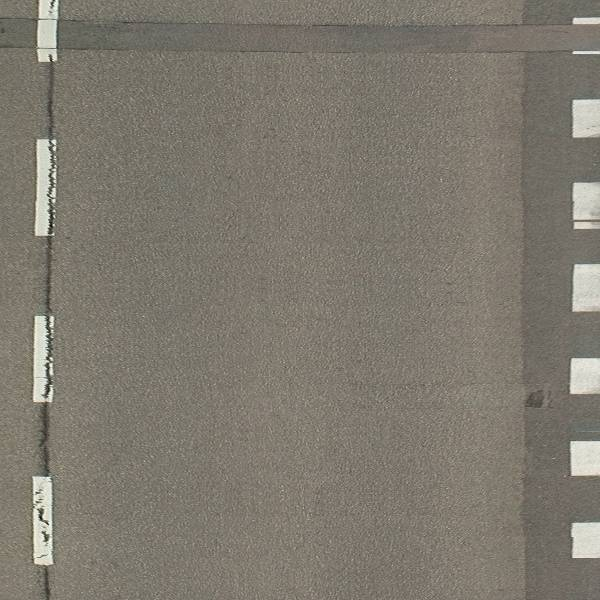road_damage: (61, 16, 570, 61), (42, 72, 60, 313)
